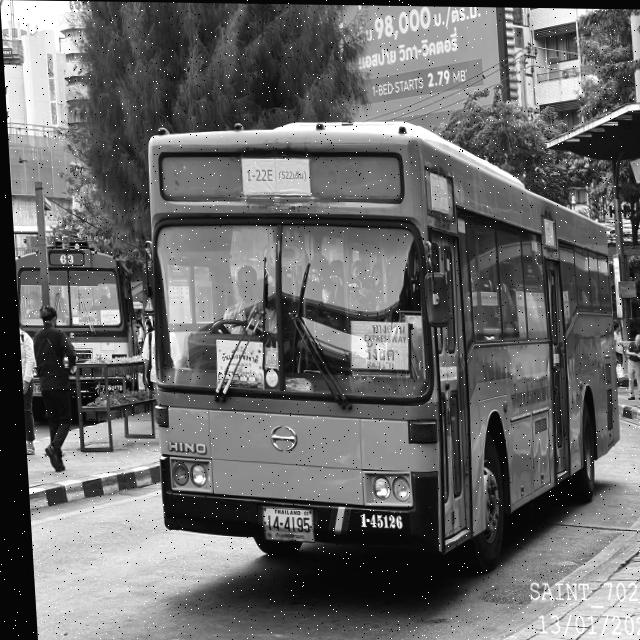BMTA-bus: (133, 119, 627, 573), (11, 242, 143, 411)
Bus-Line-Number: (236, 155, 313, 205)
Destination-Sign-Normal-Expressway: (343, 317, 413, 375)
